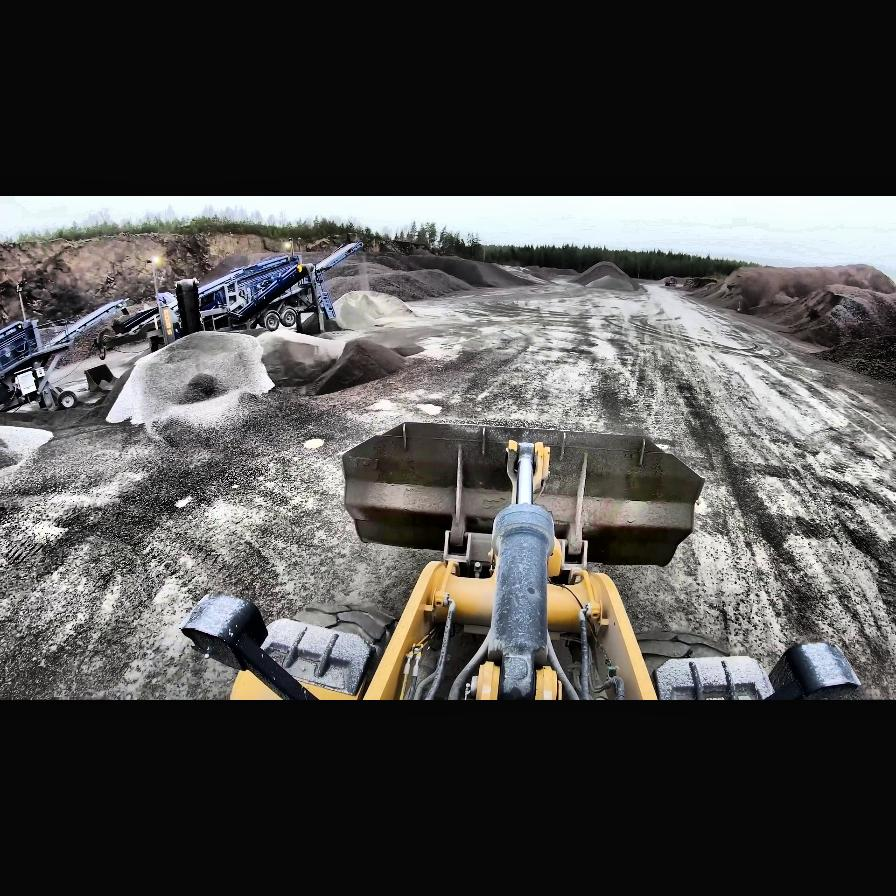anchor: (506, 439, 554, 503)
pile of gravel: (111, 318, 407, 420), (664, 260, 896, 368), (400, 254, 530, 290), (349, 266, 469, 302), (568, 261, 636, 289)
